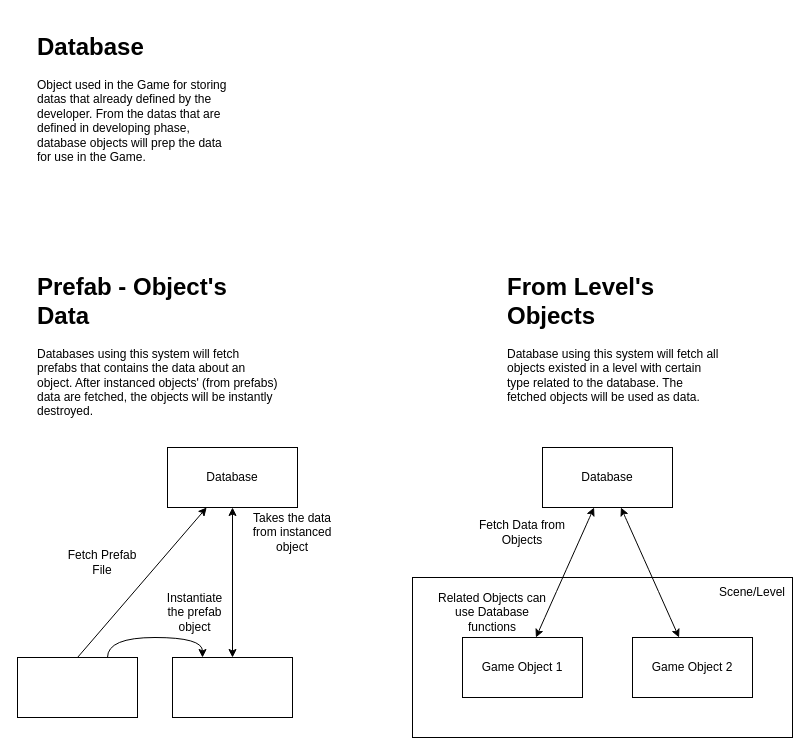
The diagram is 810 pixels wide and 755 high, and some of its shapes have lost their labels. The centre of each missing label's shape, as x and y in pixels:
"Game Object" goes at point 232,687.
"Prefab" goes at point 77,687.
